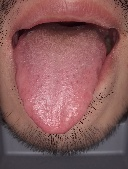tongue: (12, 35, 107, 135)
